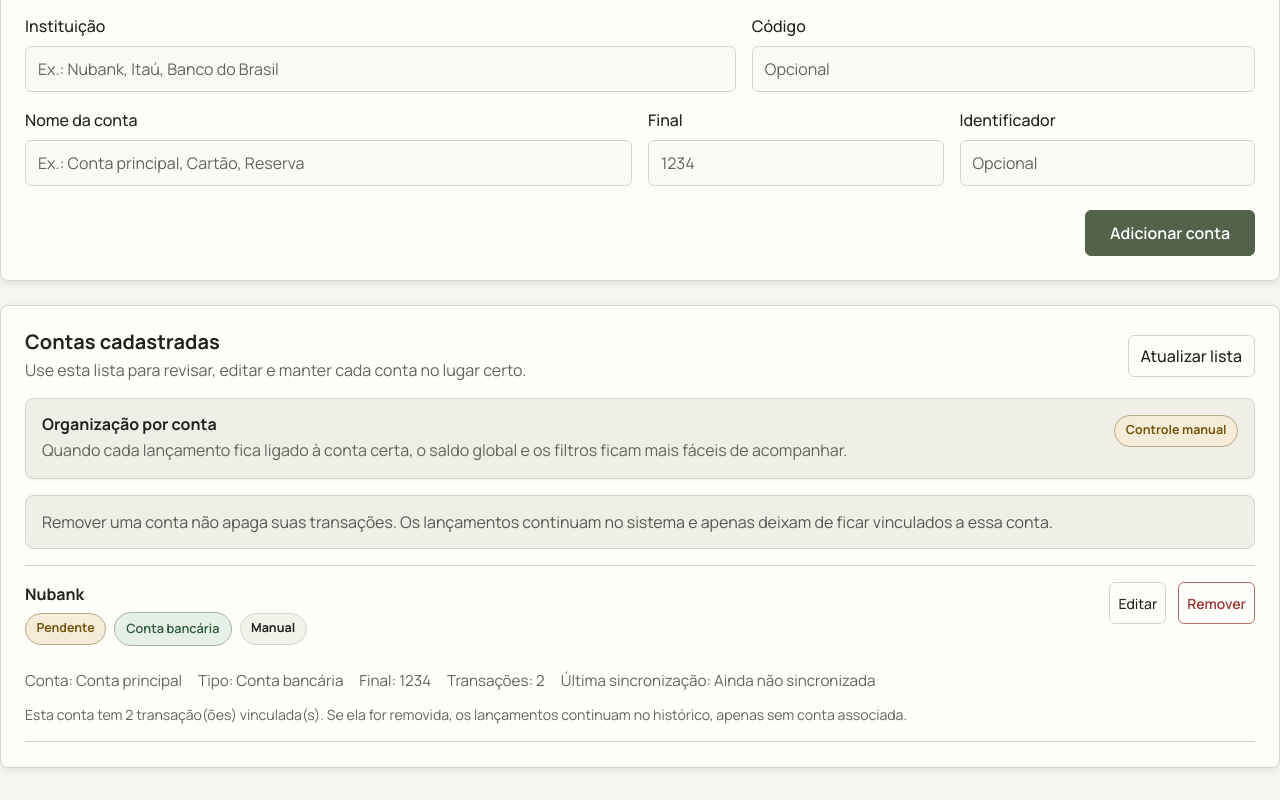
Test case: FinancialAccounts page › removes an account and preserves transactions
The image size is (1280, 800).
(page scrolled)
Check: the text "Nubank" is shown, box [25,583,84,605]
Click the button "Remover": (1217, 603) [1178,582,1255,624]
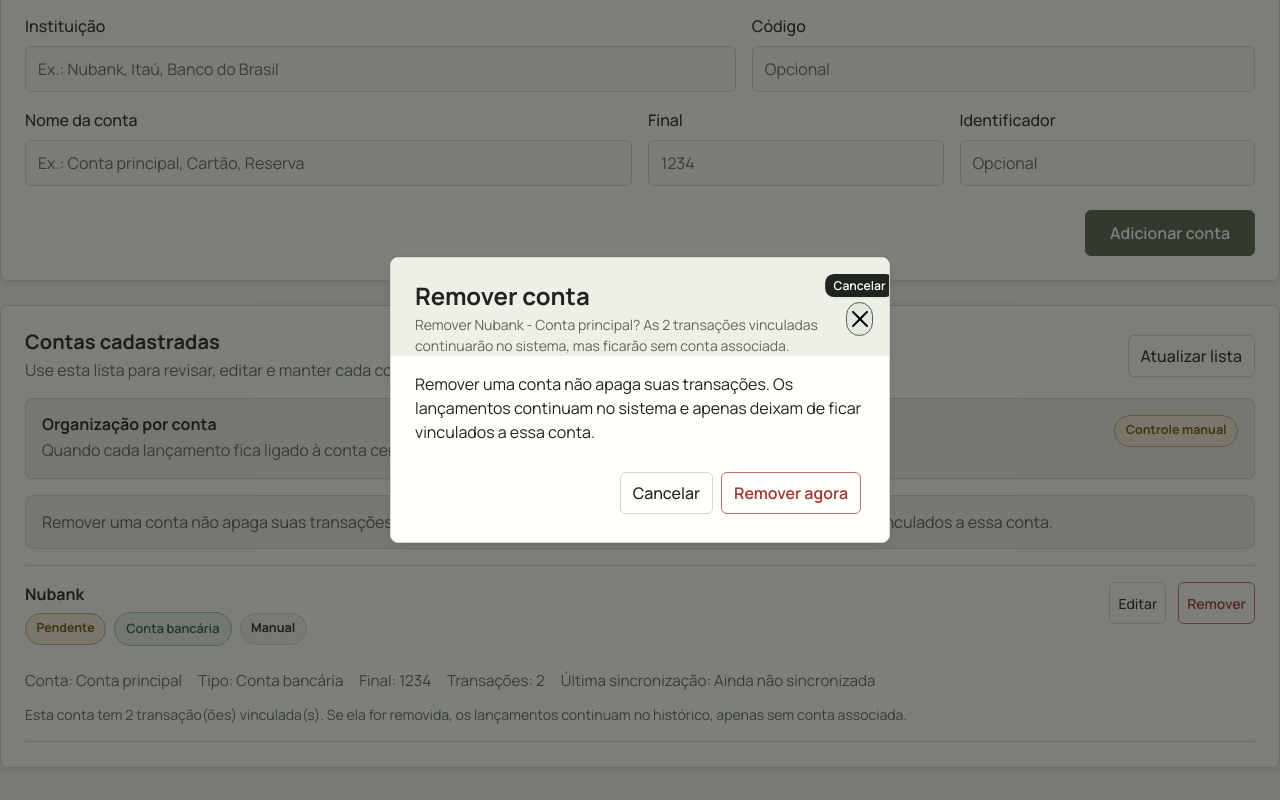
Check: the dialog "Remover conta" is shown, box [390,257,890,543]
Click the button "Remover agora": (791, 493) [721,472,861,514]
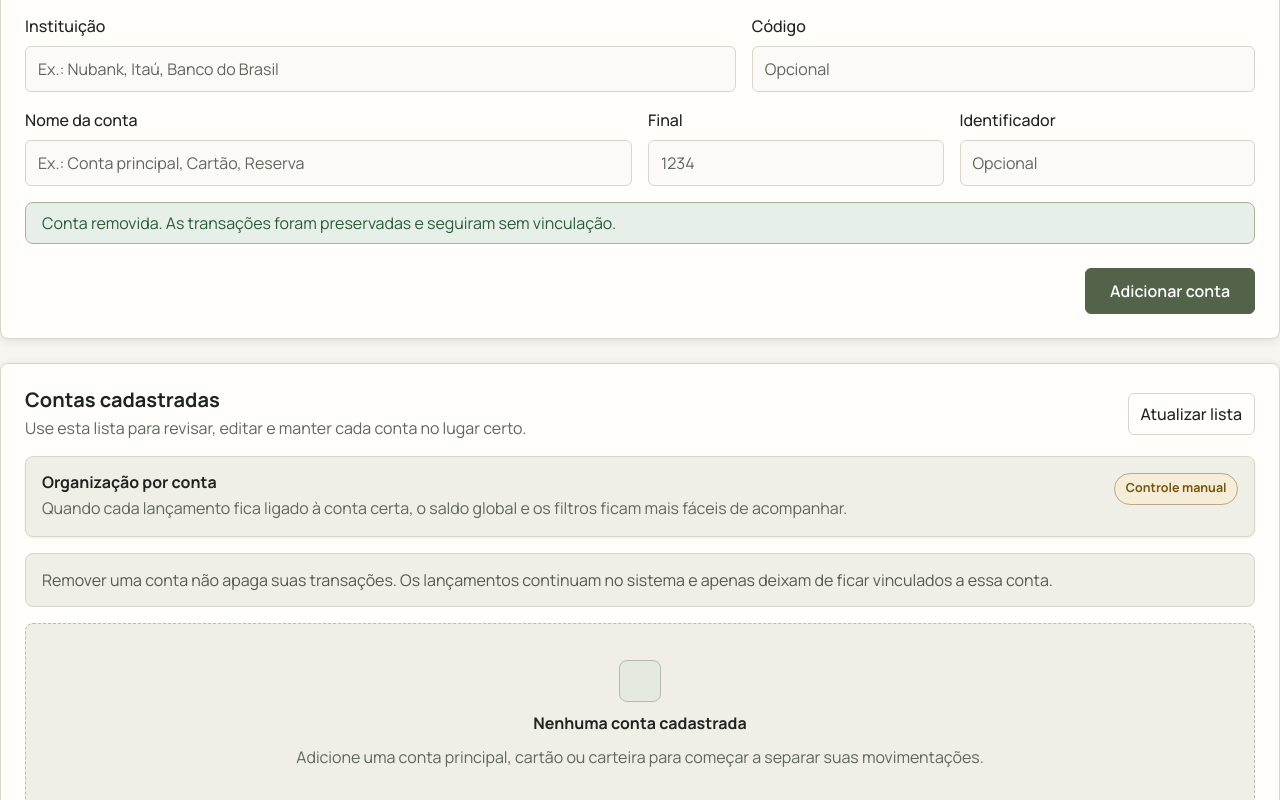
Check: the text "Conta removida. As transações foram preservadas e seguiram sem vinculação." is shown, box [25,202,1255,244]
